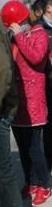boots: (31, 187, 51, 205), (1, 1, 1, 1)
hard-hat: (0, 0, 29, 27)
